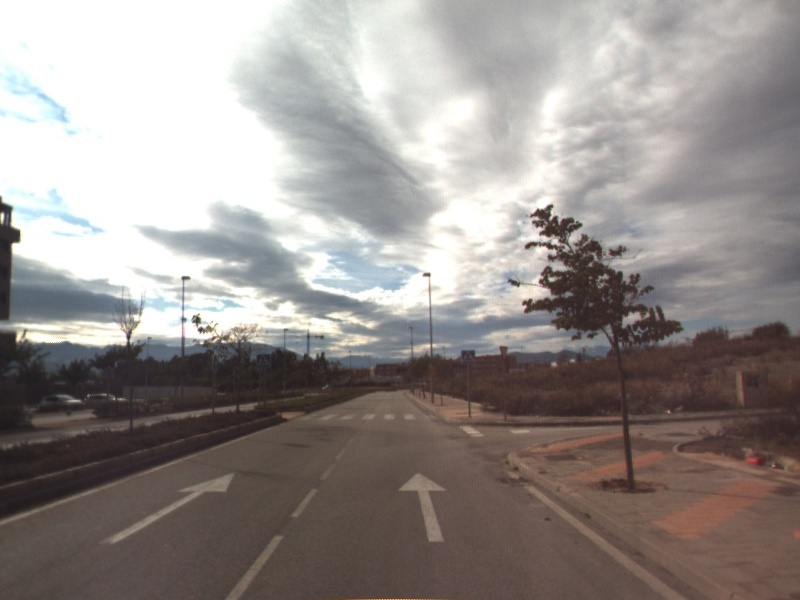STRAIGHT: (96, 471, 236, 546), (396, 470, 450, 544)
